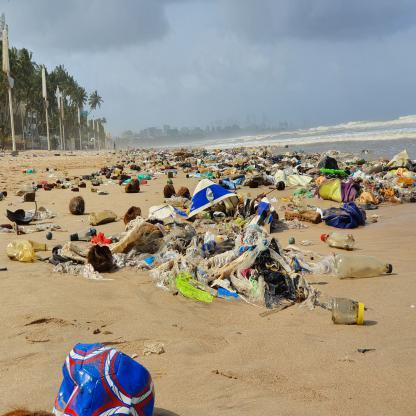Plastic: (58, 340, 157, 414), (331, 256, 396, 280), (329, 294, 371, 330), (172, 277, 217, 304), (321, 231, 362, 251)
